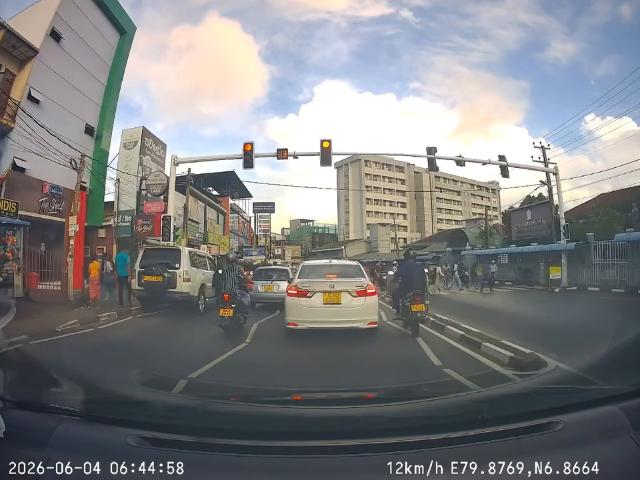traffic light red: (238, 137, 261, 174)
